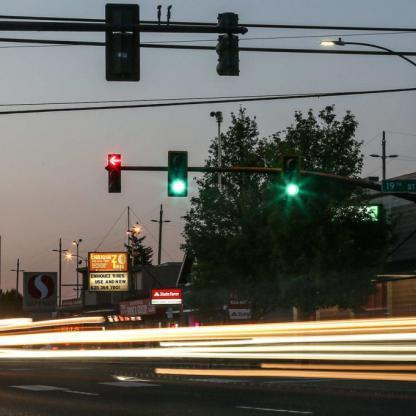green: (280, 154, 303, 200), (169, 150, 188, 197)
red: (108, 152, 122, 194)
